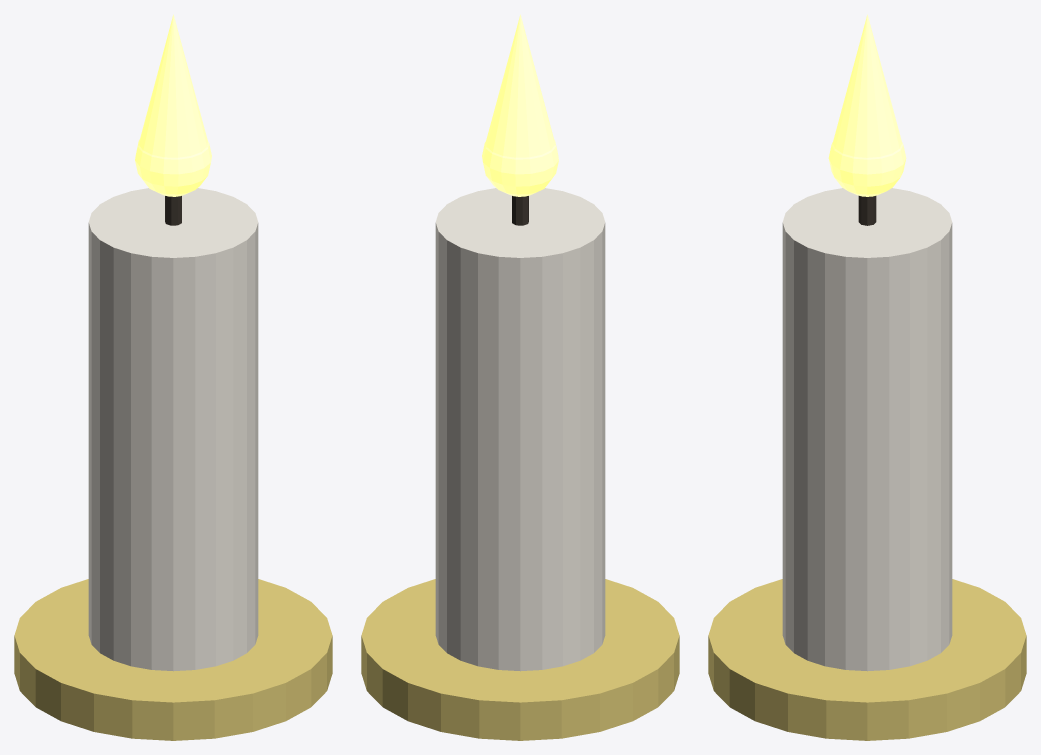
File: prop_candle_placeholder_v0.glb
The picture shows the model from 3 angles, left to right: view 1: azimuth 30°, elevation 25°; view 2: azimuth 150°, elevation 25°; view 3: azimuth 270°, elevation 25°; orthographic projection.
Visible parts, largest first — view 1: Candle_Wax, Candle_Holder, Flame; view 2: Candle_Wax, Candle_Holder, Flame; view 3: Candle_Wax, Candle_Holder, Flame, Candle_Wick.
Part boxes in pixels (x1,y1,x2,y2): Candle_Wax: (88, 188, 258, 671); Candle_Holder: (14, 579, 332, 740); Flame: (135, 14, 211, 196); Candle_Wax: (435, 188, 605, 671); Candle_Holder: (361, 579, 679, 740); Flame: (482, 14, 558, 196); Candle_Wax: (782, 188, 952, 671); Candle_Holder: (708, 579, 1026, 740); Flame: (828, 14, 906, 196); Candle_Wick: (858, 196, 876, 225).
Size of the model in its own units: 0.09 by 0.206 by 0.09.
